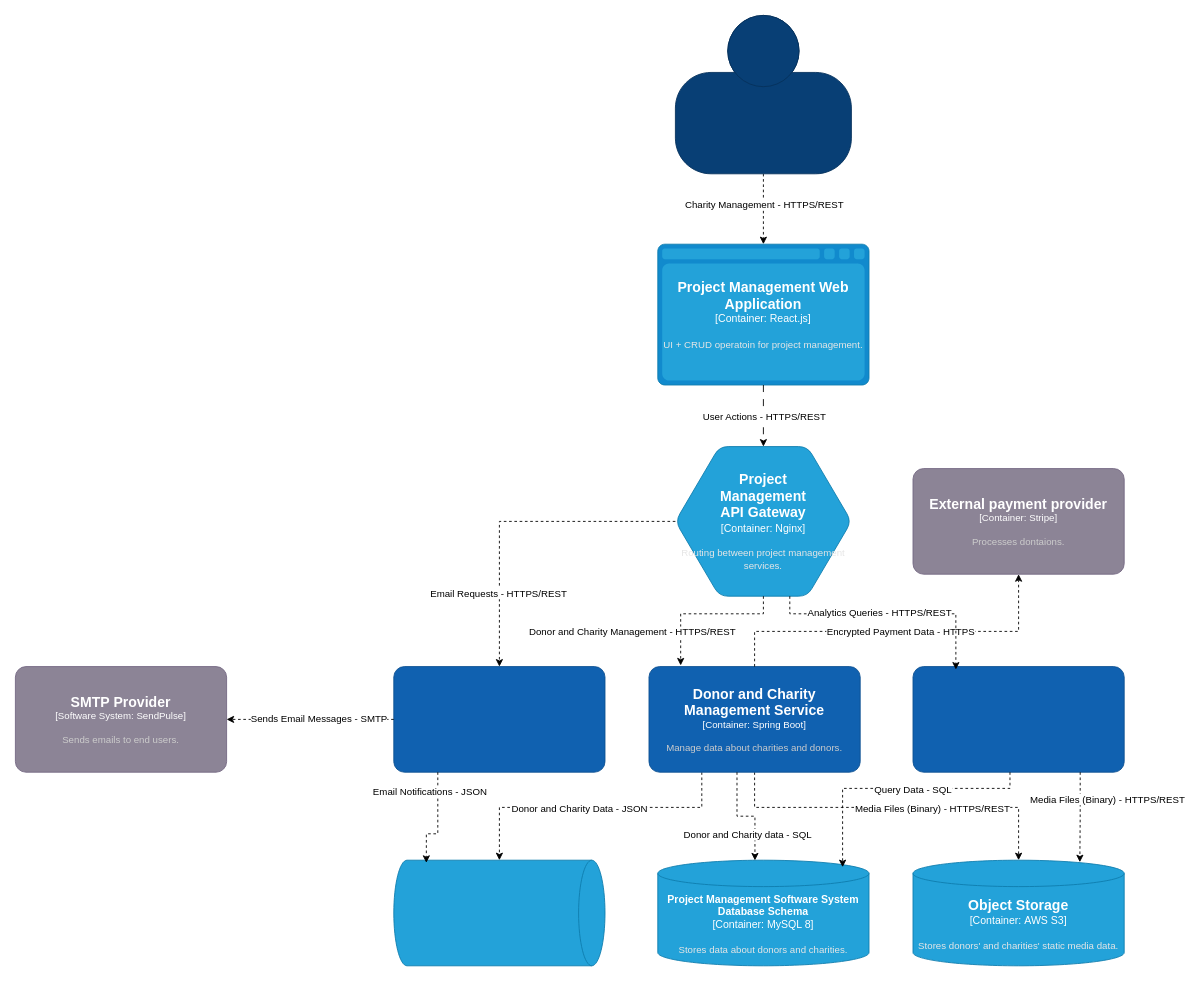
Image size: 1199x981. Some labels were removed from this diagram. Each missing label, with the centre of its shape:
Charity Admin [Person] Description of person.: the point at 763,94
Email Notification Service [Container: Spring Boot] Send email notifications.: the point at 499,719
Kafka Broker [Container: Apache Kafka] Queue messages between services.: the point at 499,912
Statistics Service [Container: Spring Boot] Gather charity statistics.: the point at 1018,719
